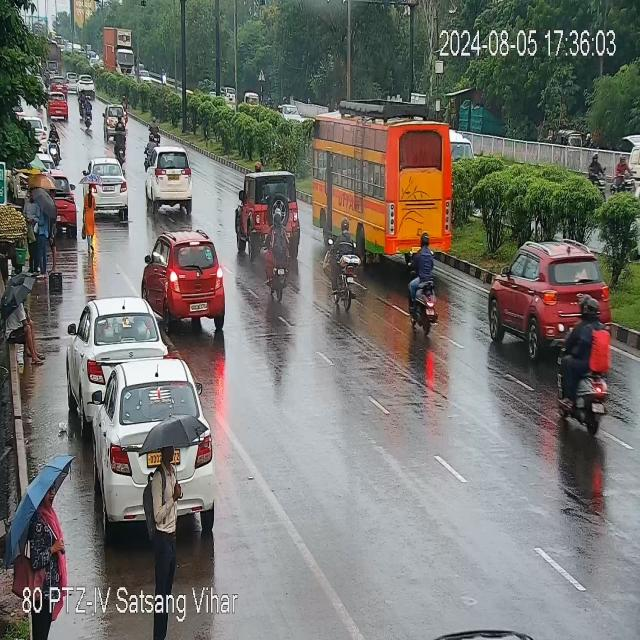2-wheelers: (554, 298, 607, 432), (404, 240, 444, 331), (328, 230, 361, 308), (584, 152, 604, 202), (113, 118, 129, 161), (614, 154, 630, 194), (48, 125, 63, 159), (146, 114, 162, 145), (81, 96, 94, 127)
auto: (245, 86, 257, 112)
bus: (316, 110, 468, 265)
car: (75, 361, 208, 536), (482, 245, 608, 349), (71, 298, 167, 386), (146, 231, 230, 328), (239, 168, 305, 242), (148, 148, 198, 210), (90, 158, 131, 220), (50, 172, 80, 236), (100, 101, 124, 133), (49, 90, 70, 124), (280, 101, 304, 129), (75, 73, 96, 95)
pedestrian: (146, 440, 188, 582), (21, 484, 63, 592), (26, 183, 57, 275), (6, 287, 43, 362), (81, 179, 97, 251)
truck: (104, 25, 136, 86)
